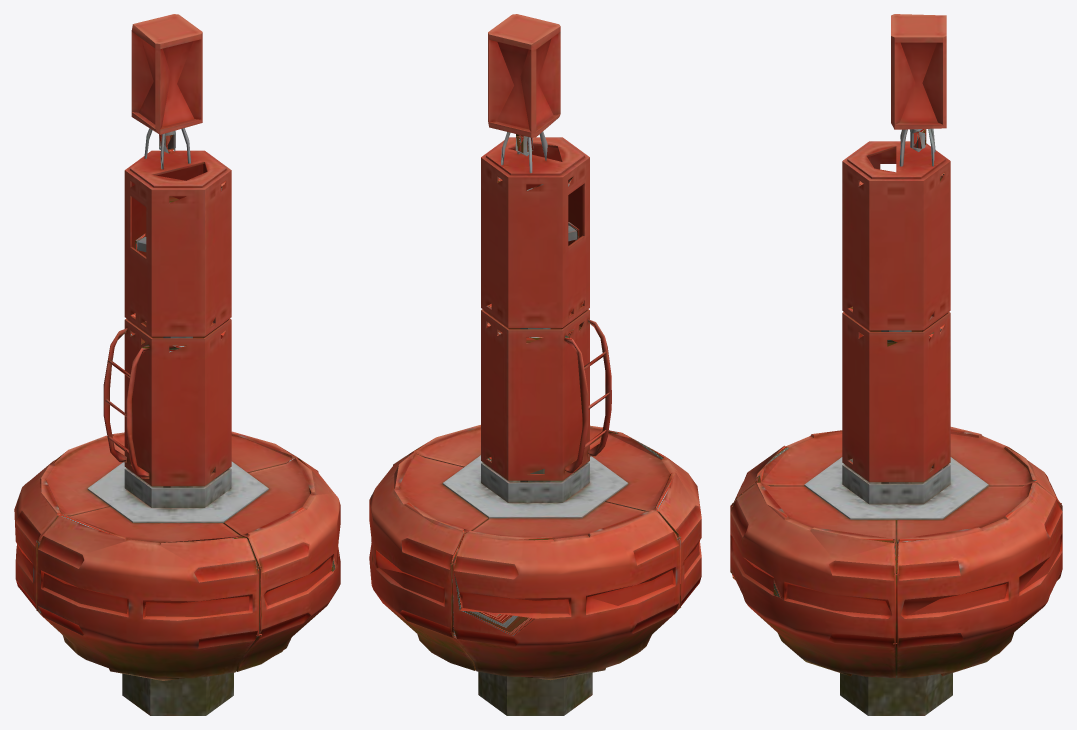
3 renders of one model, left to right at view 1: azimuth 30°, elevation 25°; view 2: azimuth 150°, elevation 25°; view 3: azimuth 270°, elevation 25°, orthographic. The views are drawn at different scales.
Visible parts, largest first — view 1: lateral_sea_marker_lod1; view 2: lateral_sea_marker_lod1; view 3: lateral_sea_marker_lod1.
Part boxes in pixels (left/top/right/bottom): lateral_sea_marker_lod1: left=14, top=14, right=340, bottom=715; lateral_sea_marker_lod1: left=369, top=14, right=701, bottom=715; lateral_sea_marker_lod1: left=730, top=14, right=1062, bottom=715.
Size of the model in its own units: 3 by 6.83 by 3.
Materials: 1 (1 with a texture image).
